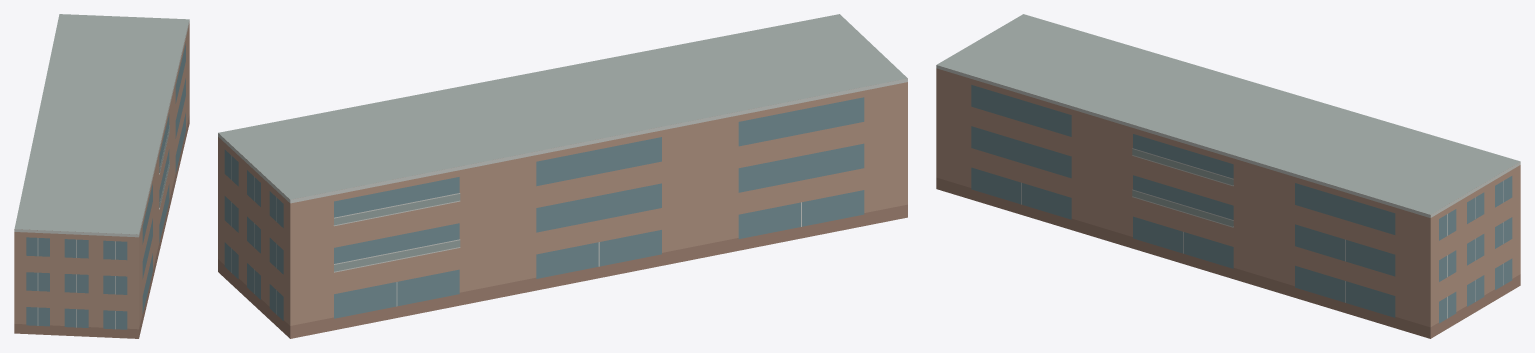
The model's file is survey-upis-32893693.glb.
3 views of the same model, side by side, from view 1: azimuth 30°, elevation 25°; view 2: azimuth 150°, elevation 25°; view 3: azimuth 270°, elevation 25° (orthographic). The views are drawn at different scales.
Parts seen in each view (by area): view 1: survey-upis-32893693.tmp; view 2: survey-upis-32893693.tmp; view 3: survey-upis-32893693.tmp.
Part boxes in pixels (bbox=[...]): survey-upis-32893693.tmp: bbox=[14, 14, 189, 338]; survey-upis-32893693.tmp: bbox=[218, 14, 907, 338]; survey-upis-32893693.tmp: bbox=[936, 14, 1520, 338].
Bounding box in the file's own units: 31.77 × 9.15 × 39.07.
